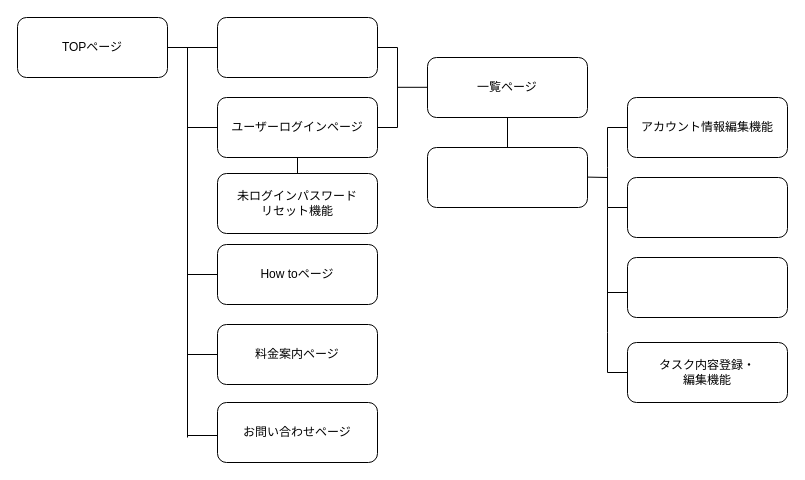
Image size: 805x480. Some labels were removed from this diagram. The centre of each missing label's shape, as x and y in pixels:
タスク設定機能: point (707, 207)
ユーザーマイページ: point (507, 177)
ユーザー新規登録ページ: point (297, 47)
課金設定機能: point (707, 287)
